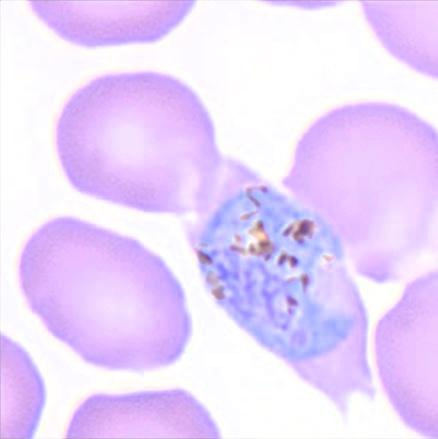Infected: (63, 19, 261, 281)
Uninfected: (2, 155, 155, 337), (246, 66, 418, 222), (218, 223, 379, 368)
